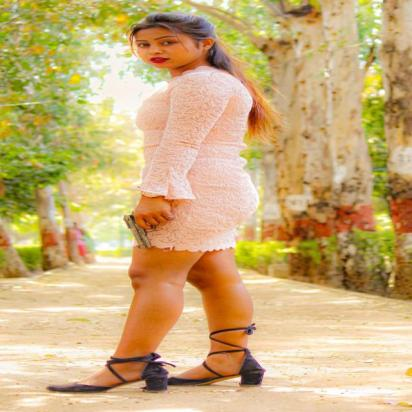Gun: (121, 202, 181, 251)
